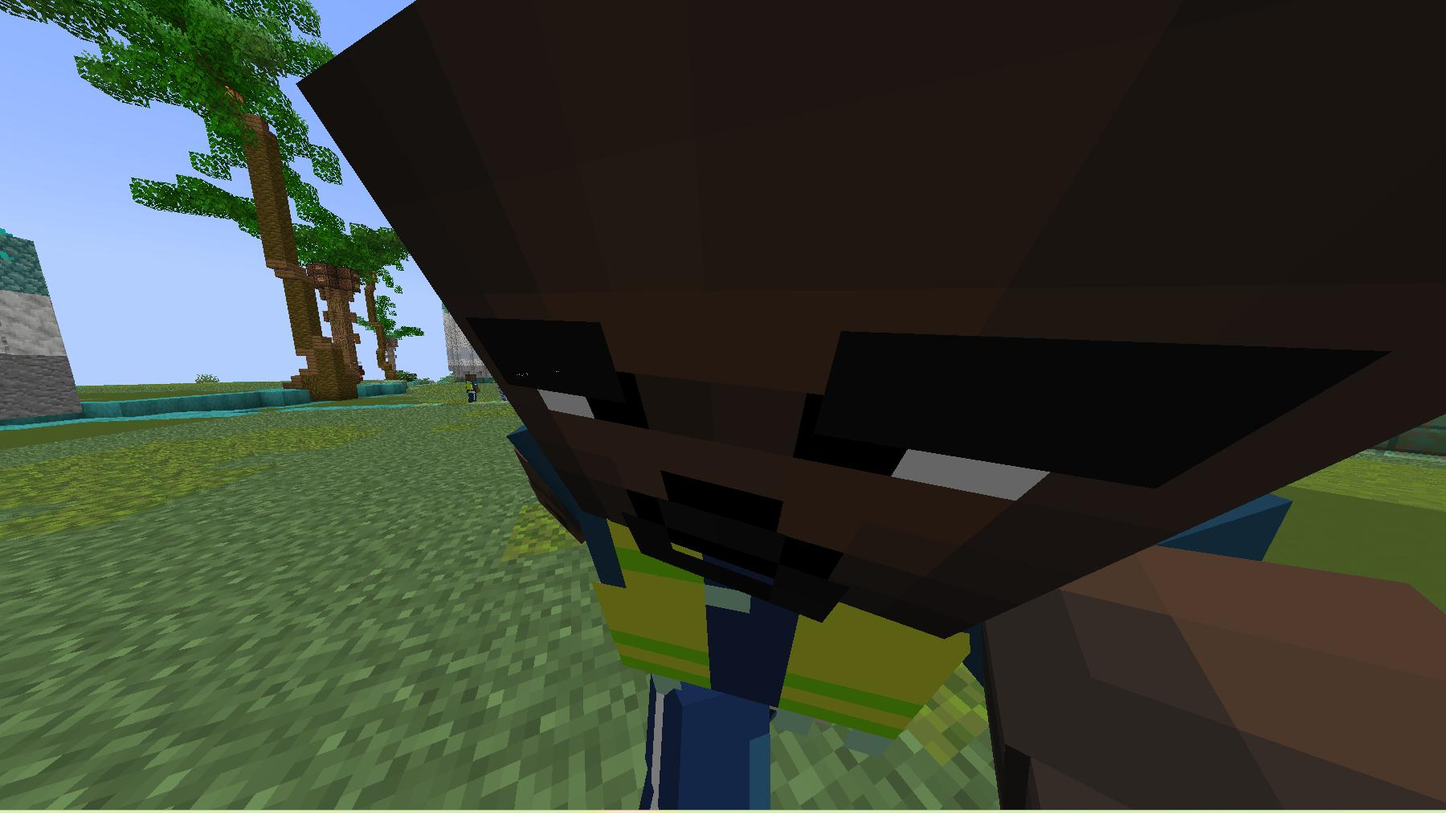Guardian: (300, 0, 1446, 808)
